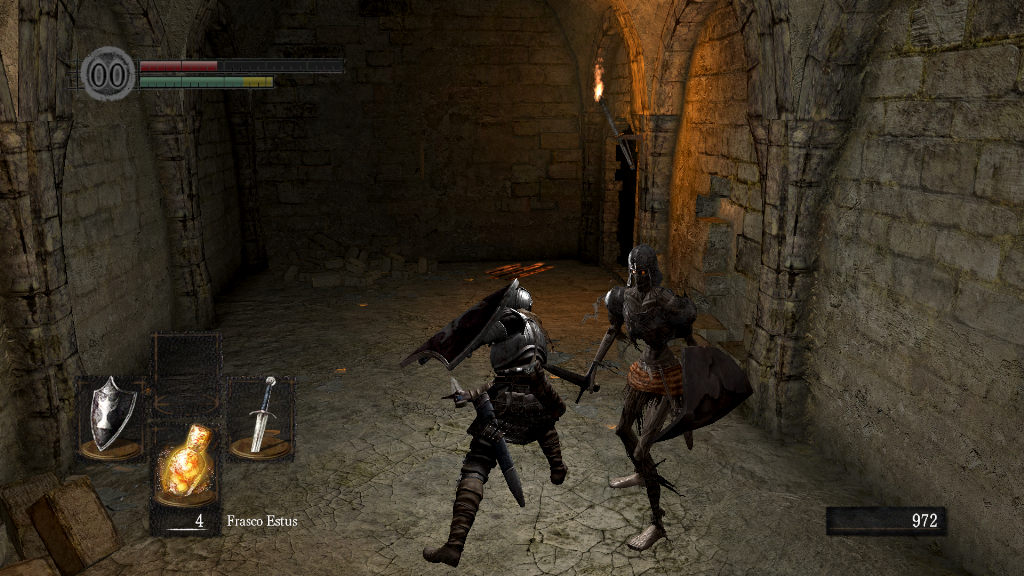health: (138, 58, 343, 71)
humanity: (80, 45, 136, 102)
player: (396, 276, 571, 567)
souls: (825, 506, 945, 536)
stamina: (138, 74, 274, 88)
undeadSoldier: (587, 247, 702, 554)
